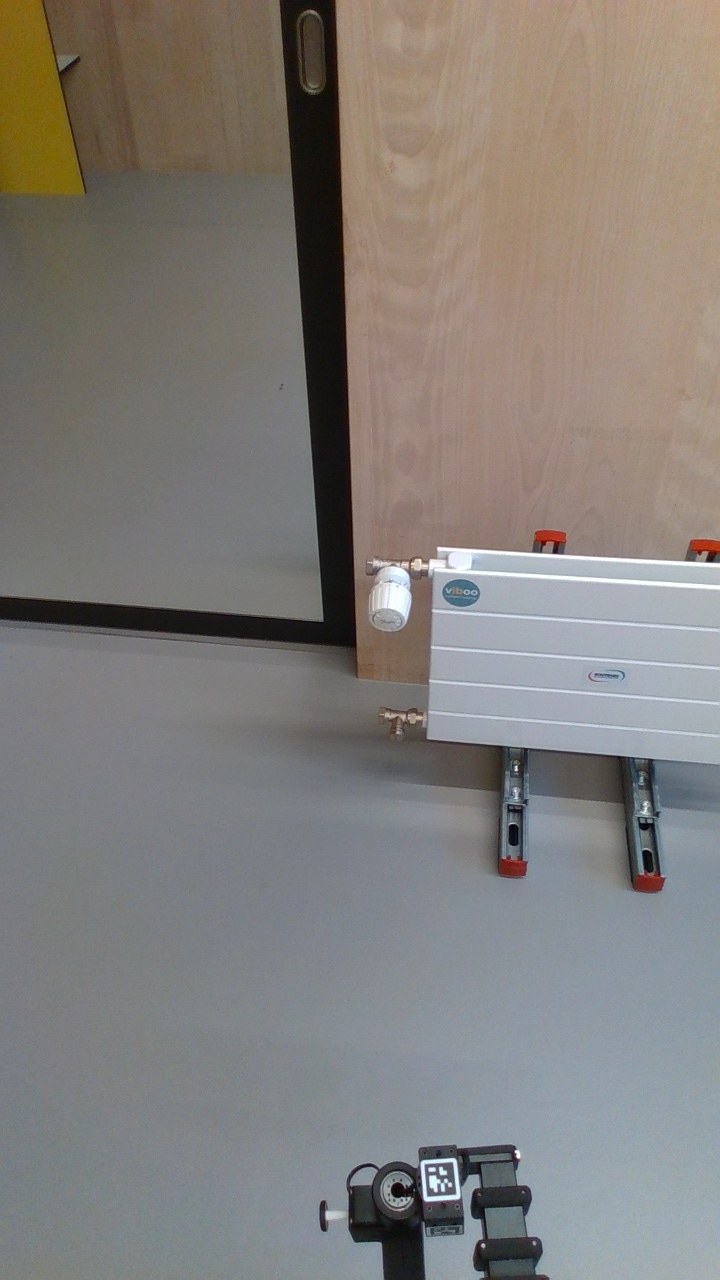Knob_Radiator: (355, 552, 423, 638)
Radiator: (412, 534, 720, 778)
